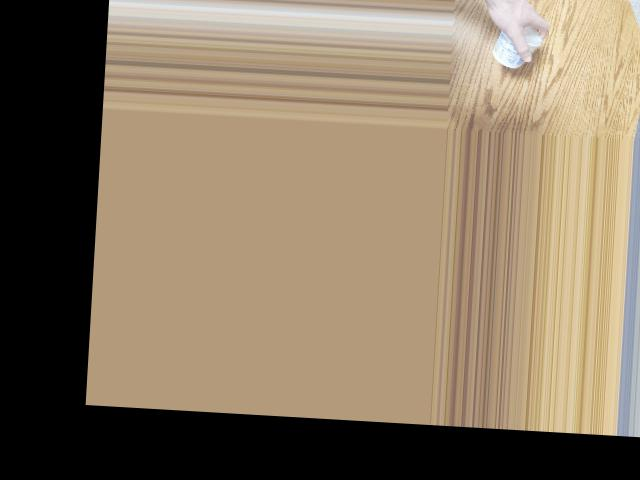cotage: (495, 25, 543, 69)
